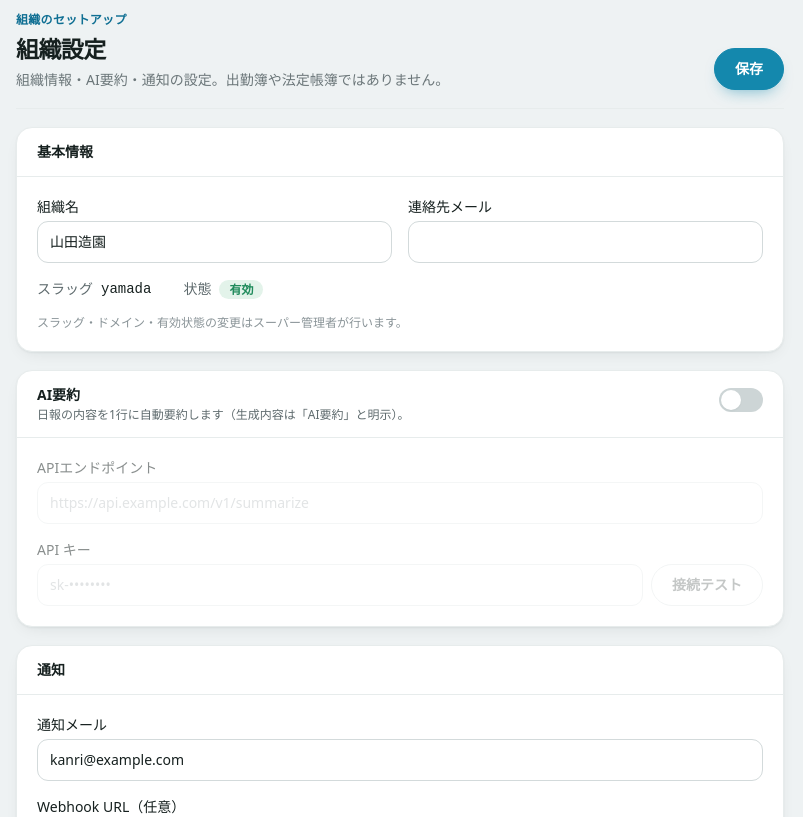
Test: OrganizationSettingsForm › rejects an invalid notification email
This screenshot has width=803, height=817.
Replace the text in the field labelled "通知メール" with "not-an-email" at point(400, 760), box [37,739,763,781]
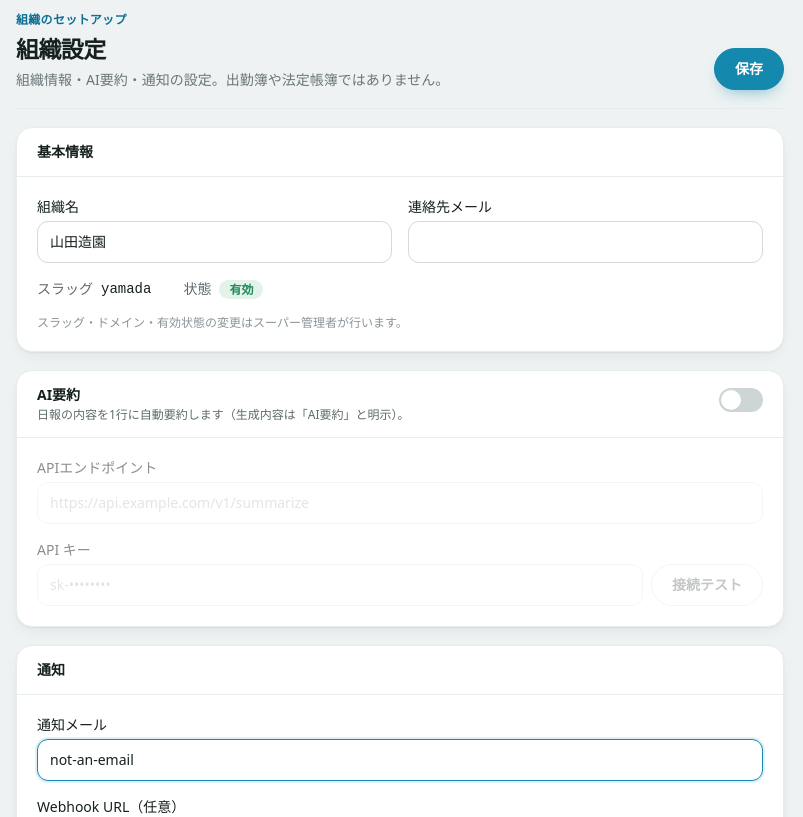
Click the button "保存" at point(749, 69), box [714,48,784,90]
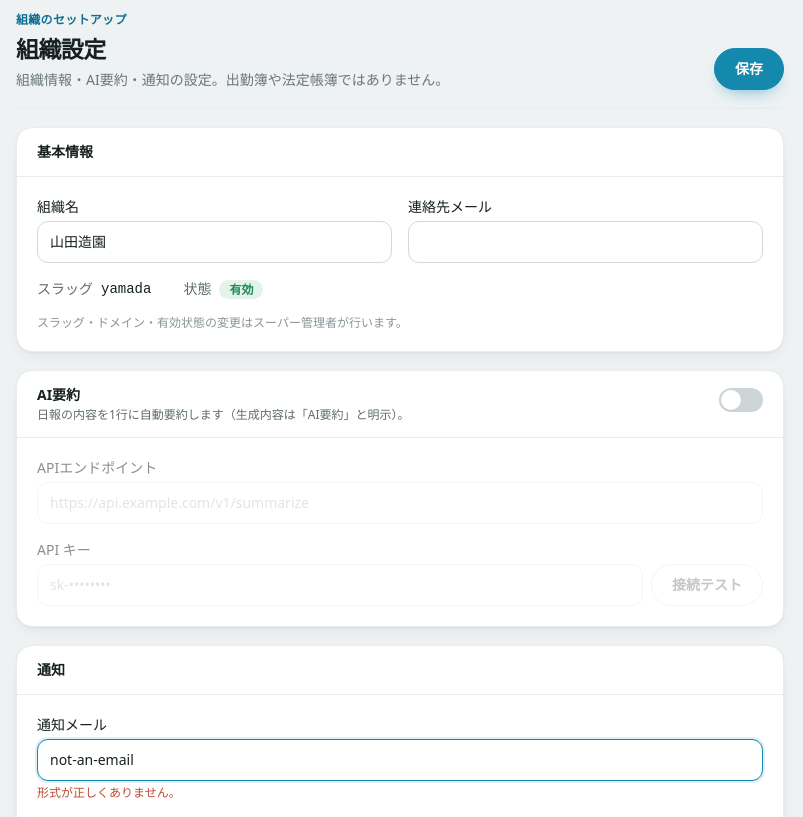
Result: the text "形式が正しくありません。" is shown at [37,784,181,801]
